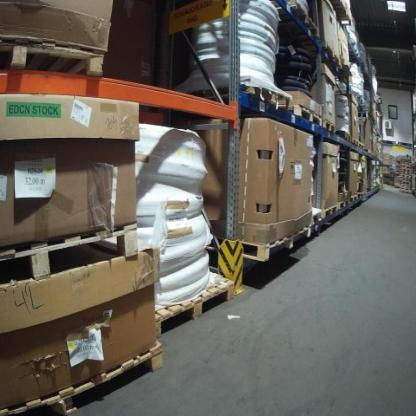pallet: (1, 342, 167, 416), (0, 220, 141, 289), (155, 272, 235, 341), (0, 34, 106, 78), (240, 223, 312, 265), (283, 0, 320, 38), (278, 100, 323, 128), (322, 40, 340, 66), (321, 118, 337, 134), (321, 204, 337, 219), (338, 131, 351, 142), (338, 198, 349, 210), (351, 137, 359, 146), (356, 190, 364, 198), (357, 140, 364, 149), (349, 195, 357, 202), (401, 167, 411, 171), (401, 179, 412, 182), (401, 184, 412, 187), (402, 171, 411, 174), (401, 182, 412, 184), (401, 187, 412, 189), (401, 176, 411, 178), (402, 174, 411, 176), (401, 178, 412, 179)
